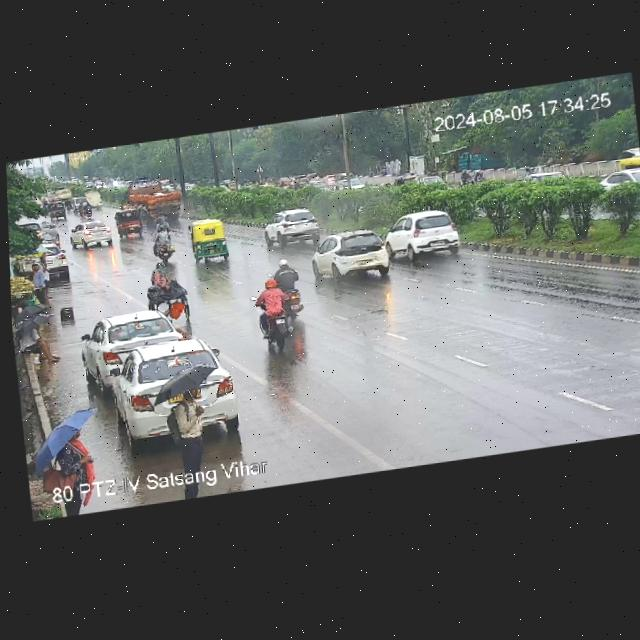car: (93, 330, 244, 455), (78, 306, 183, 379), (315, 226, 397, 284), (386, 205, 467, 261), (527, 155, 628, 192), (143, 252, 195, 318), (261, 207, 325, 250), (190, 217, 236, 267), (68, 218, 117, 249), (600, 163, 640, 197), (279, 171, 326, 196), (392, 170, 443, 192), (114, 207, 148, 238), (49, 199, 71, 220)
motorcycle: (255, 274, 308, 353), (149, 224, 178, 262), (452, 164, 474, 185)
person: (45, 416, 103, 489), (166, 383, 216, 466), (17, 315, 61, 365), (30, 261, 51, 305)
truck: (127, 178, 187, 221)
